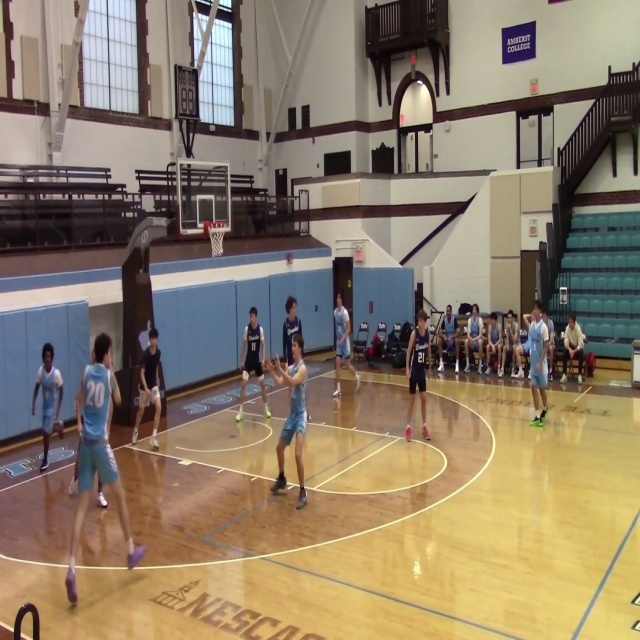Basketball: (52, 420, 64, 436)
